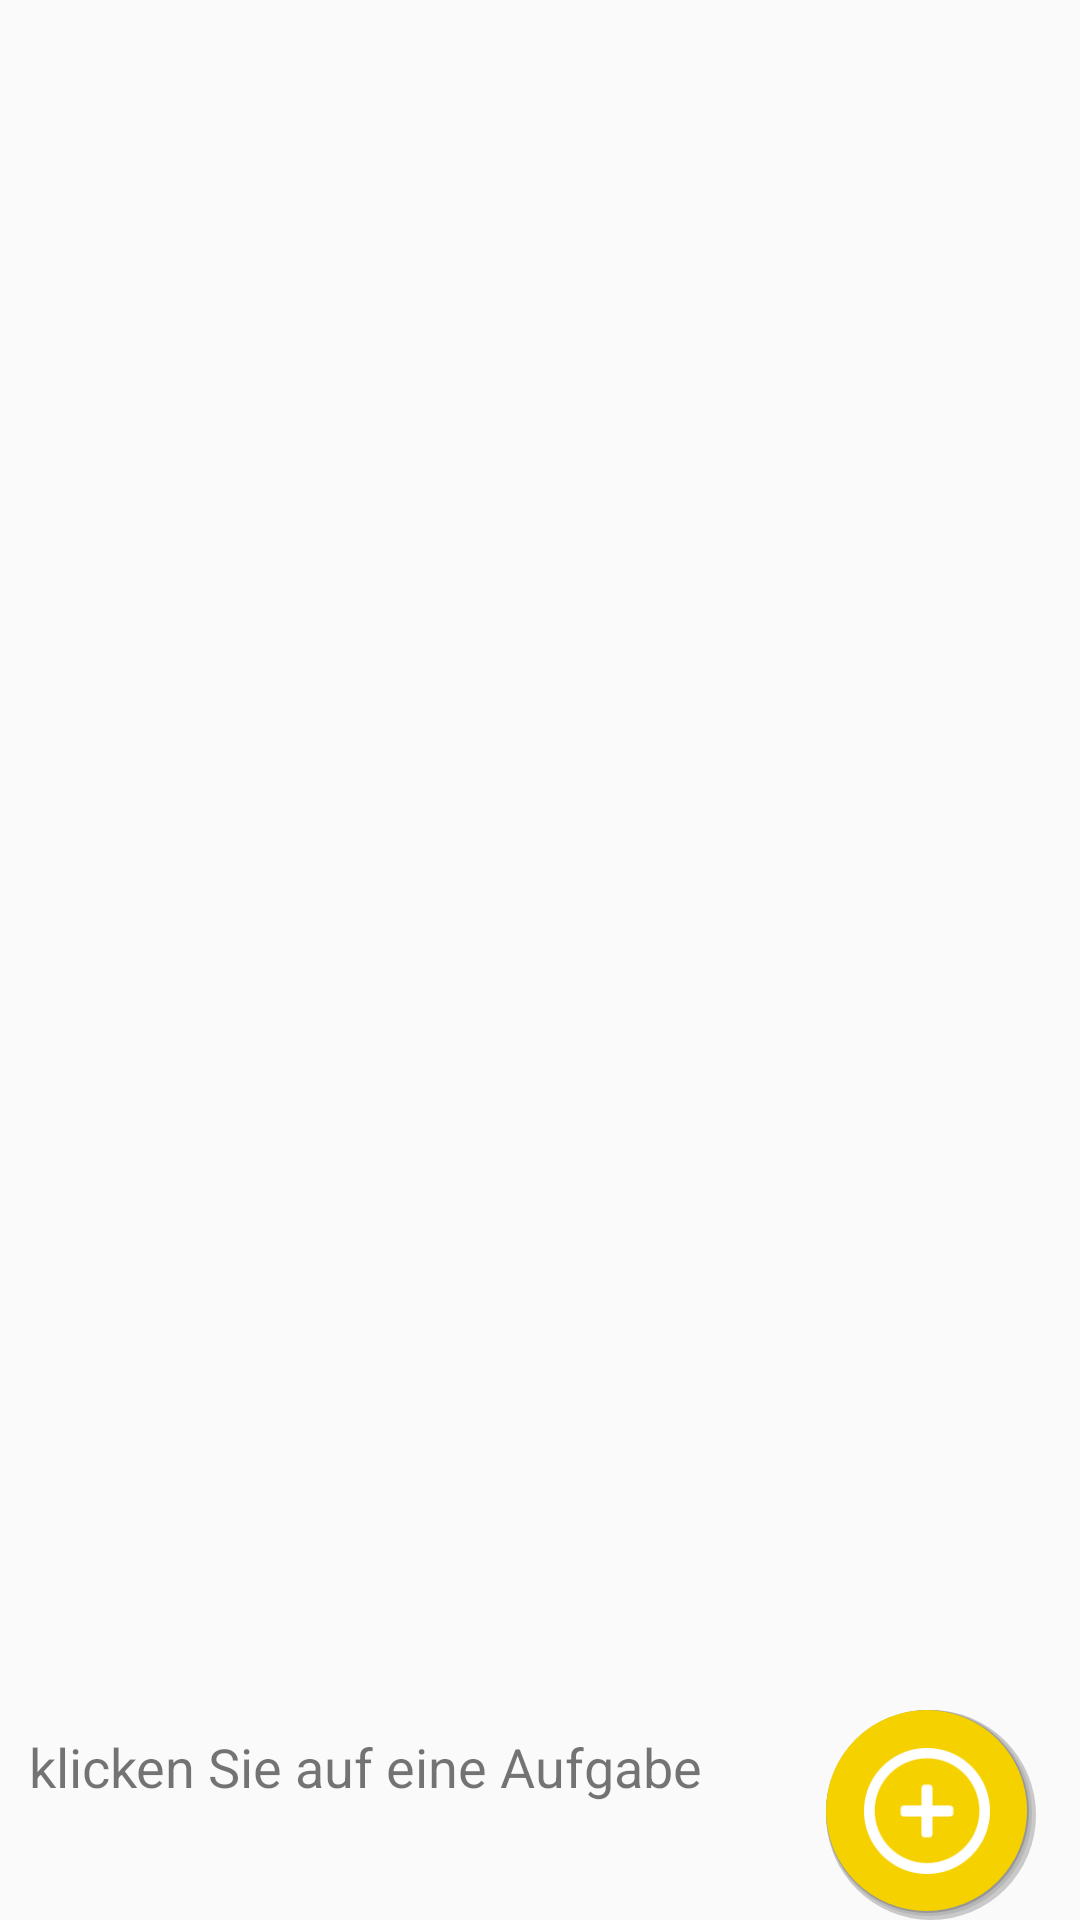

Locate icon controls on the screen. Image size 1080px×1920px, boxes as (x1, y1, x2, y2).
plus: (826, 1710, 1036, 1920)
